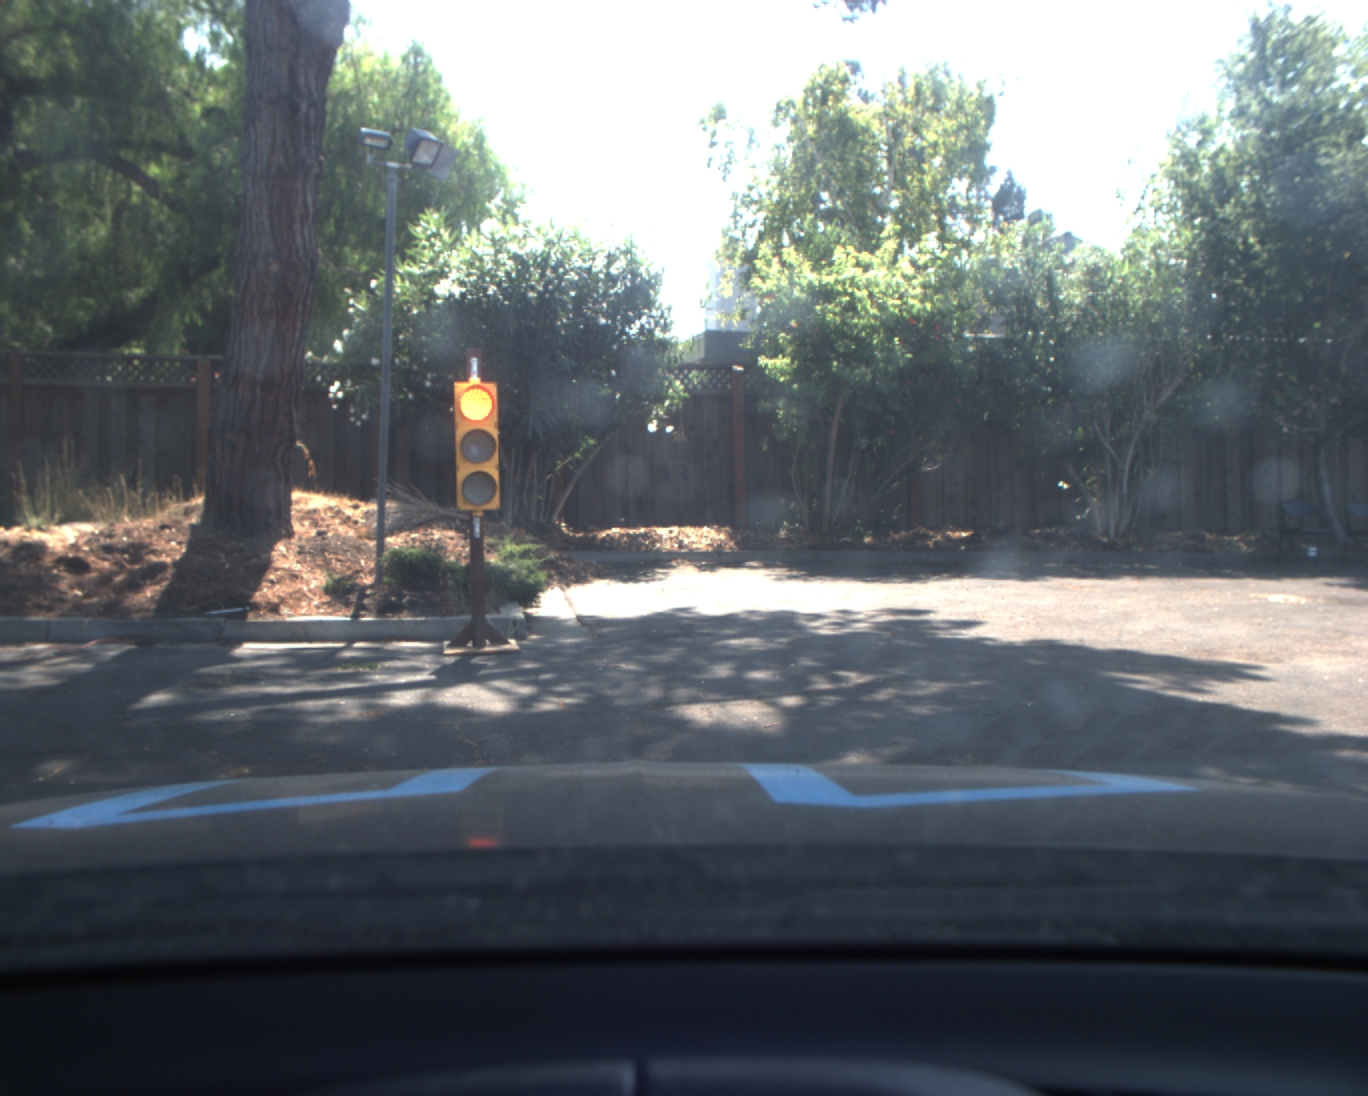red: (456, 381, 503, 510)
